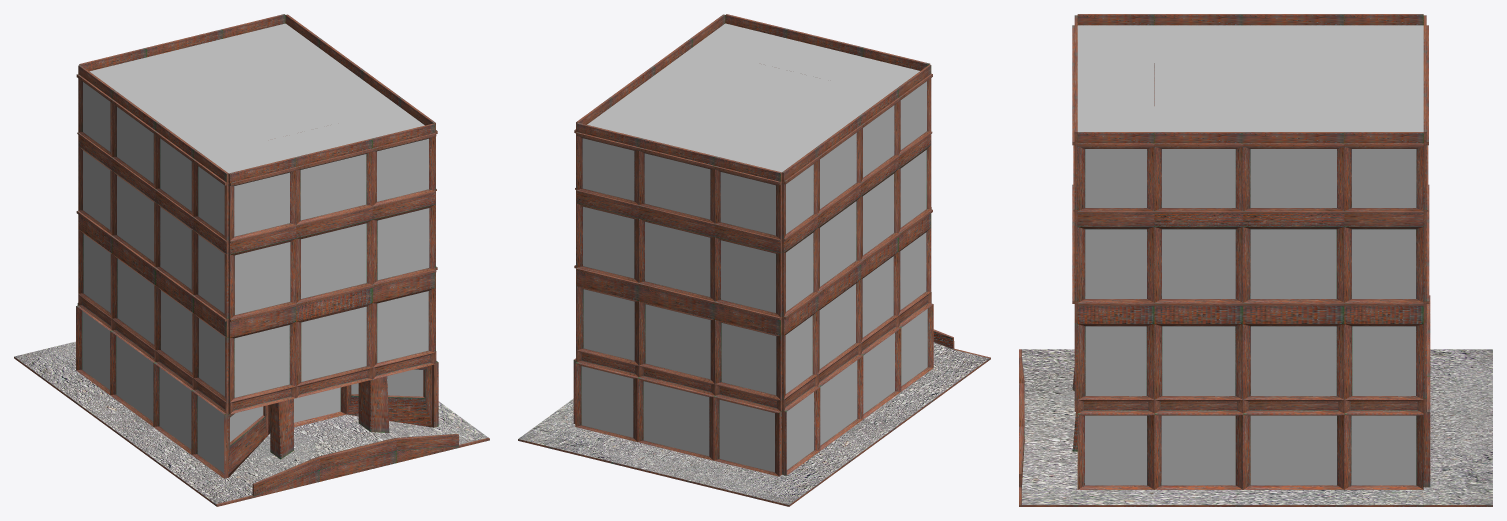
File: building.fbx
The picture shows the model from 3 angles, left to right: view 1: azimuth 30°, elevation 25°; view 2: azimuth 150°, elevation 25°; view 3: azimuth 270°, elevation 25°; orthographic projection. The views are drawn at different scales.
Visible parts, largest first — view 1: Cube; view 2: Cube; view 3: Cube.
Part boxes in pixels (<box>): Cube: <box>14,14,489,506</box>; Cube: <box>518,14,990,506</box>; Cube: <box>1019,14,1492,506</box>.
Size of what is drawn, in the model's own units: 489 by 524 by 630.
